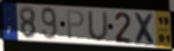2: (113, 11, 132, 45)
8: (18, 5, 38, 41)
9: (40, 6, 59, 42)
P: (66, 10, 86, 41)
U: (87, 10, 110, 42)
X: (133, 12, 158, 47)
